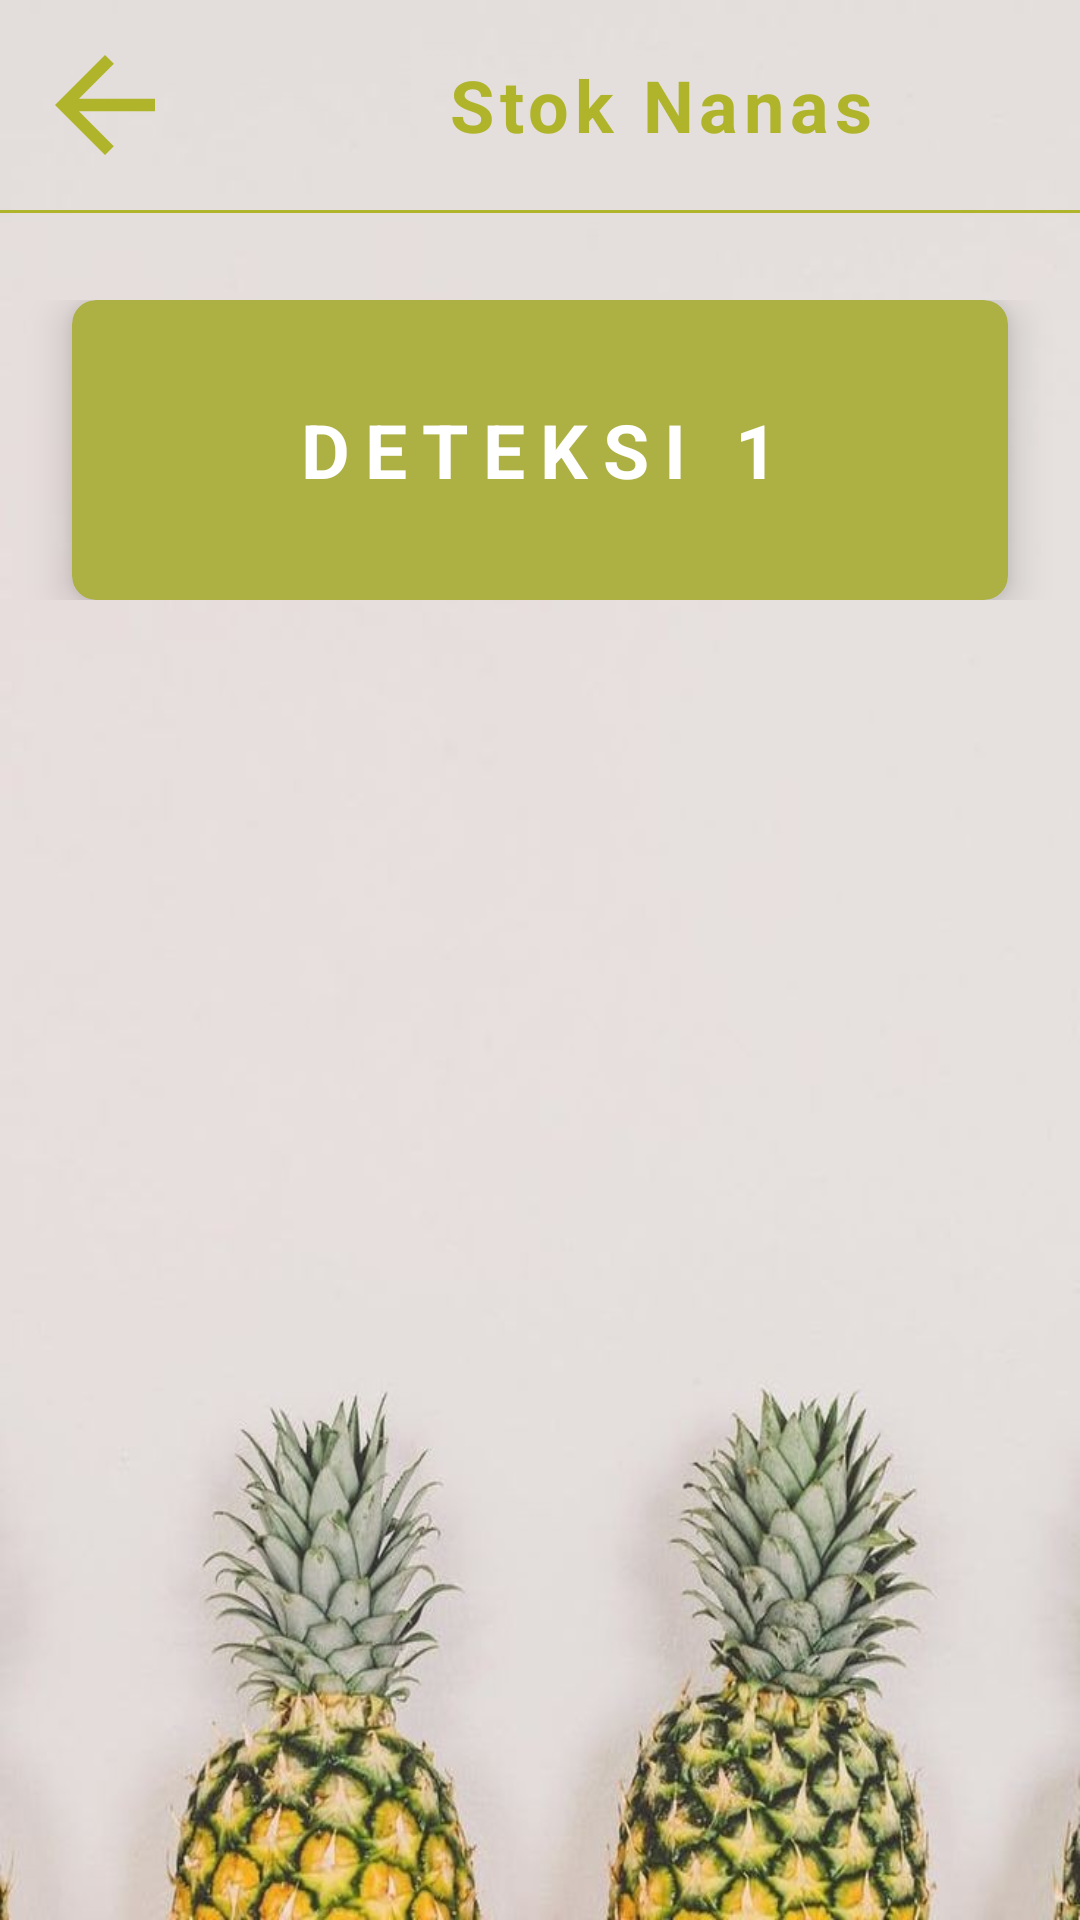

Icon bounding boxes for this 1080px x 1920px phone screenshot, format (x1, y1, x2, y2):
arrow back: (55, 55, 155, 155)
